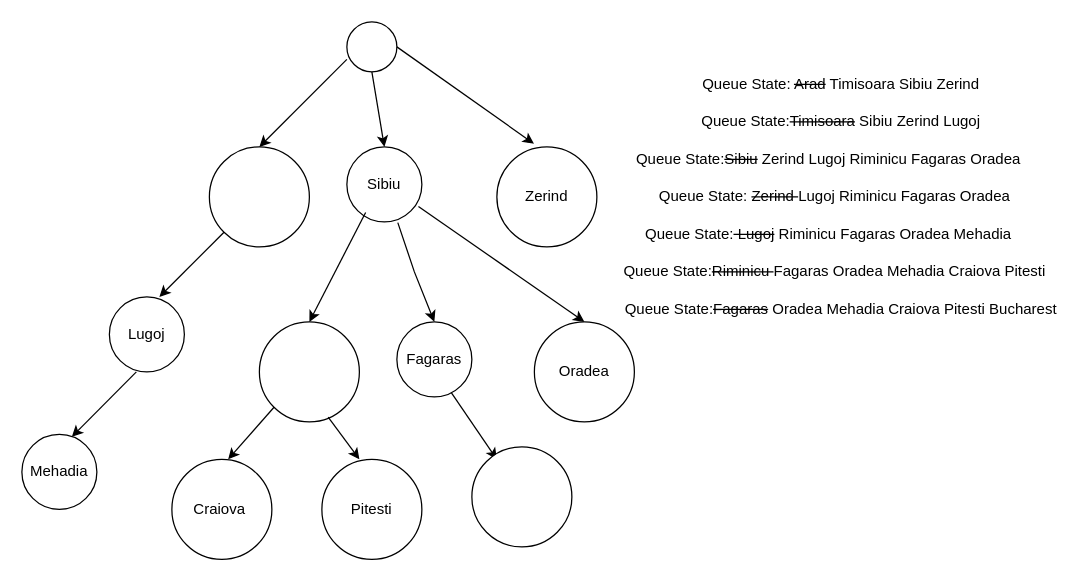
The diagram is 1088 pixels wide and 581 high, and some of its shapes have lost their labels. The centre of each missing label's shape, as x and y in pixels:
Arad: (371,46)
Bucharest: (521,496)
Riminicu: (308,371)
Timisoara: (258,196)
